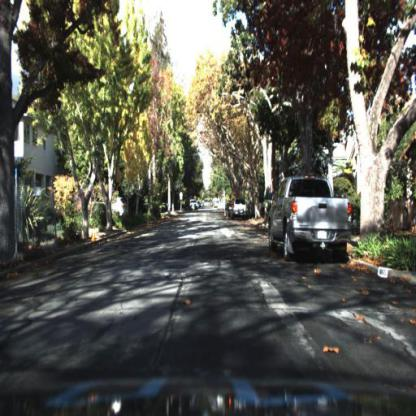car: (260, 164, 358, 274), (262, 171, 351, 264), (232, 197, 248, 221), (233, 198, 250, 219), (224, 203, 235, 216)
